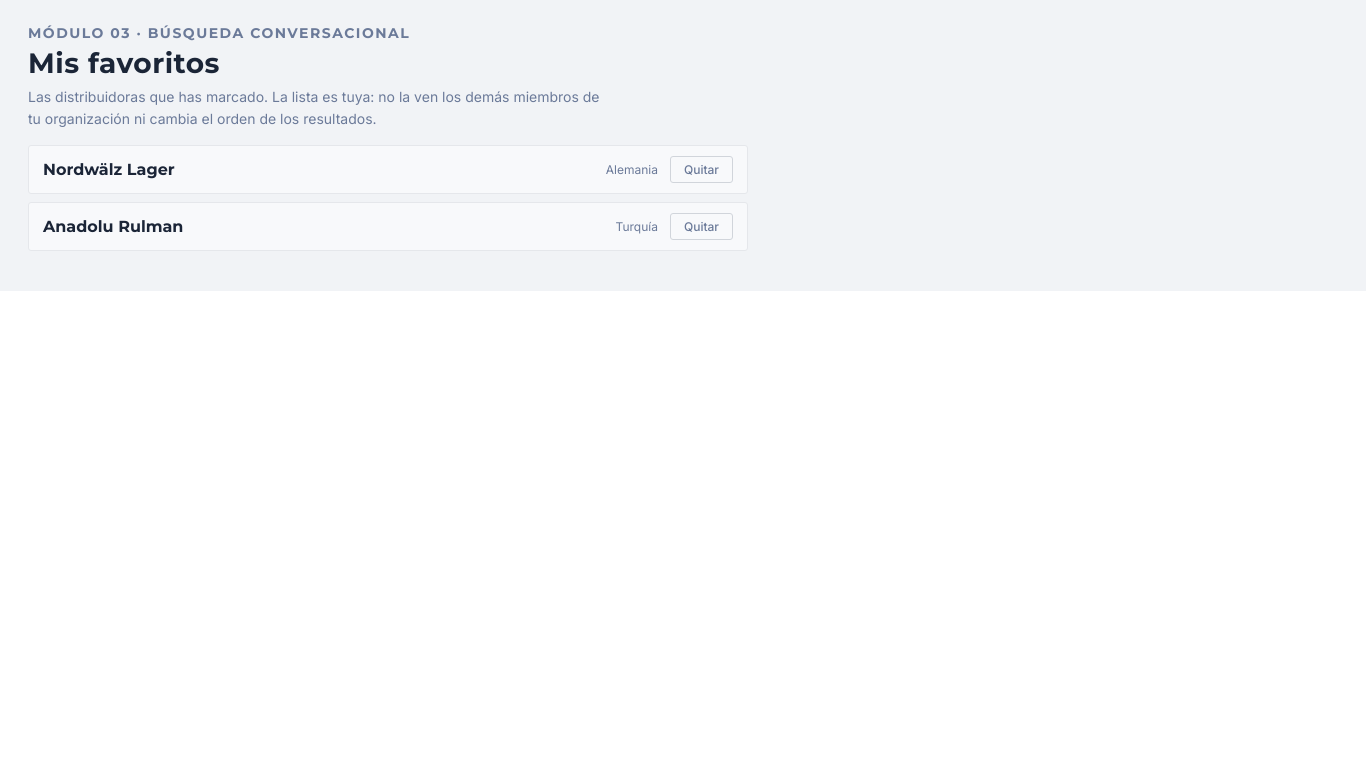
Test case: MyFavorites › si quitar falla, la fila sigue y el error sale en el cuadro
This screenshot has width=1366, height=768.
Click the button with aria-label "Quitar a Nordwälz Lager de favoritos". click: (701, 169)
box: [670,156,733,183]
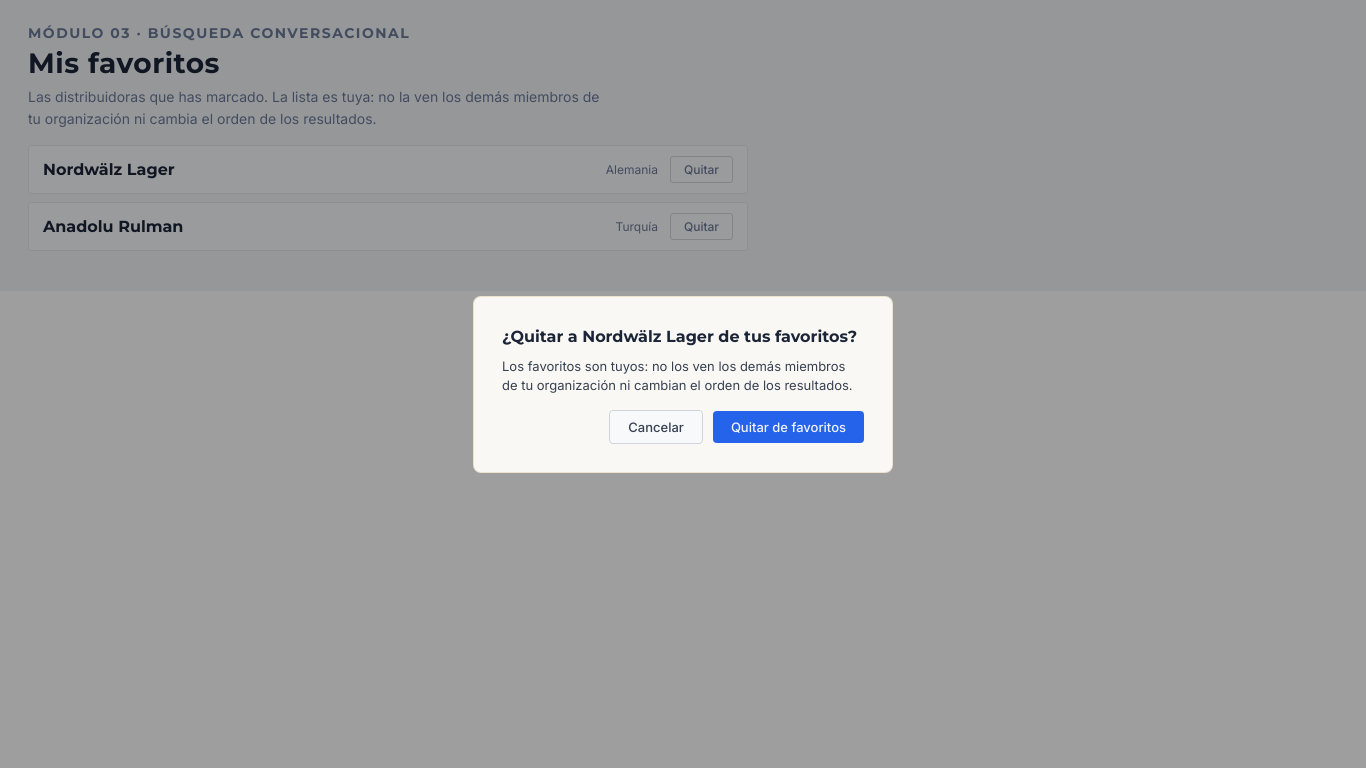
Click the button "Quitar de favoritos". click: (788, 426)
box: [713,410,864,442]
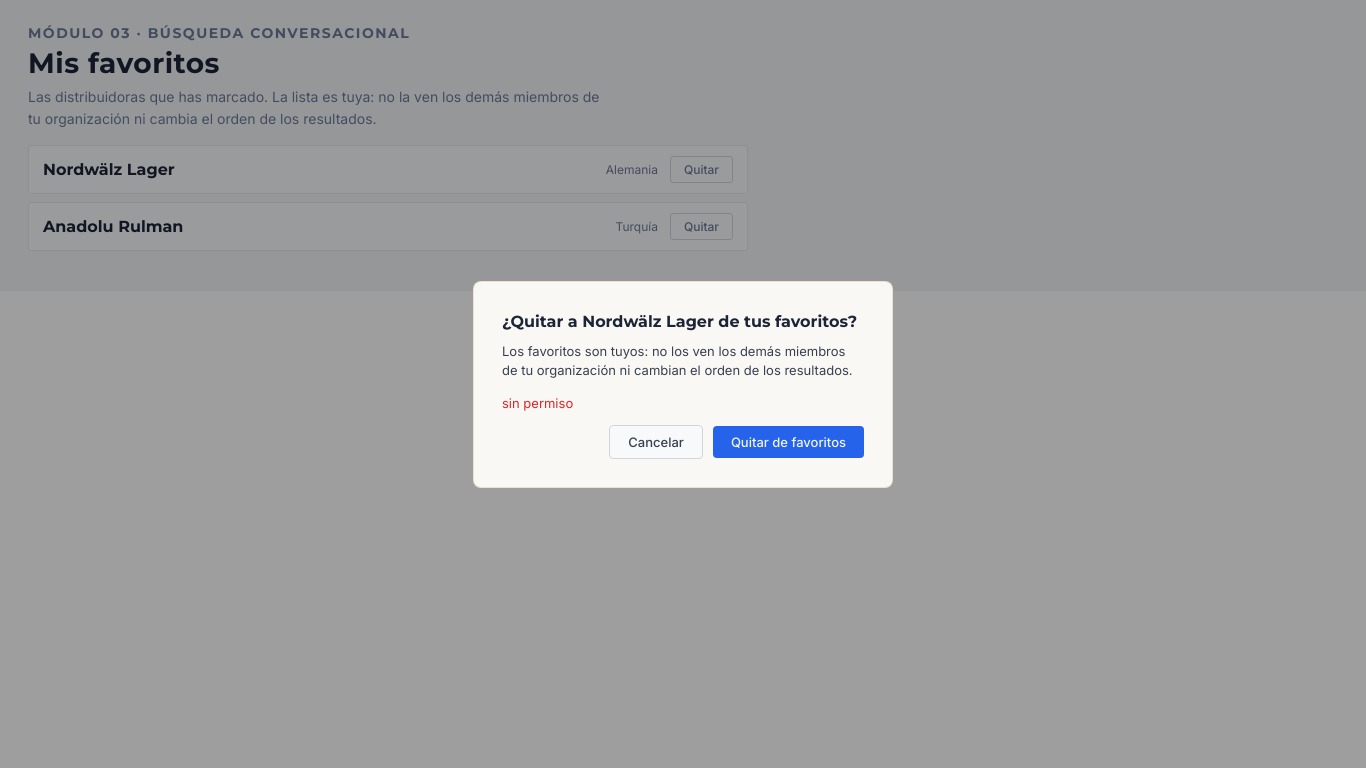
Expected: the button with aria-label "Quitar a Nordwälz Lager de favoritos" is shown, [670,156,733,183]
Now the text "sin permiso" is shown, box [502,394,573,410]
